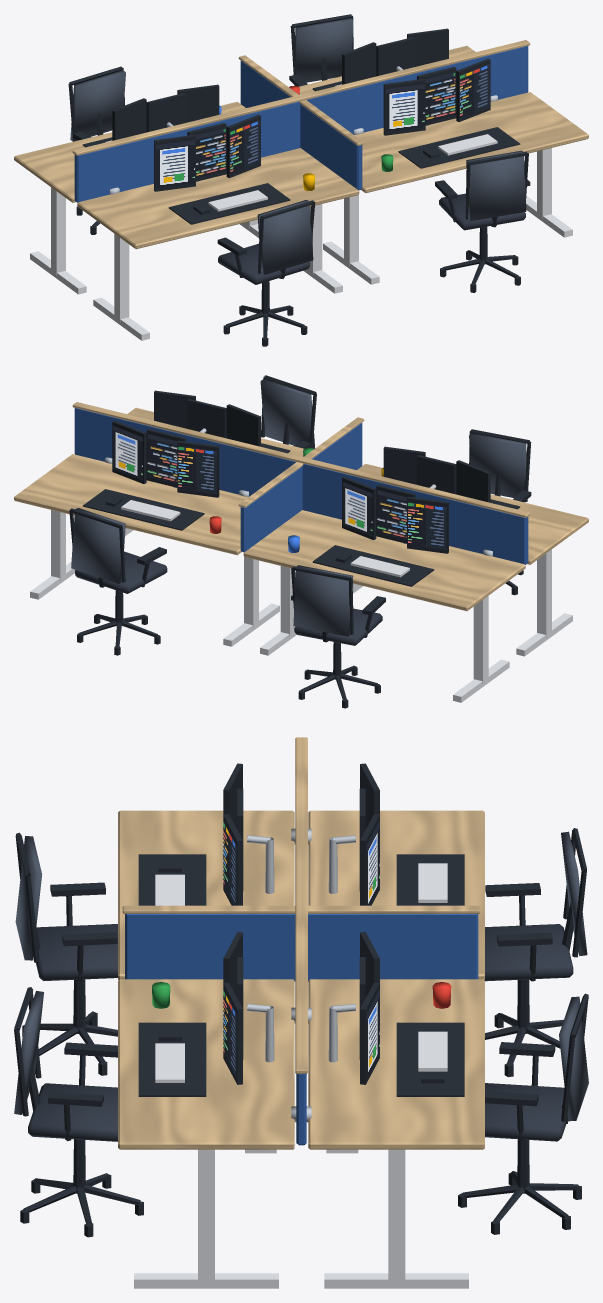
Rendered from prop_desk_pod.glb.
3 renders of one model, top to bottom at view 1: azimuth 30°, elevation 25°; view 2: azimuth 150°, elevation 25°; view 3: azimuth 270°, elevation 25°, orthographic. The views are drawn at different scales.
Parts seen in each view (by area): view 1: DeskPod_BirchTops, DeskPod_DarkMetal, DeskPod_AcousticFelt, DeskPod_ChairMesh, DeskPod_WhiteFrames, DeskPod_SWEScreens, DeskPod_ChairSeats; view 2: DeskPod_BirchTops, DeskPod_DarkMetal, DeskPod_AcousticFelt, DeskPod_ChairMesh, DeskPod_WhiteFrames, DeskPod_SWEScreens, DeskPod_ChairSeats; view 3: DeskPod_BirchTops, DeskPod_DarkMetal, DeskPod_AcousticFelt, DeskPod_ChairSeats, DeskPod_WhiteFrames, DeskPod_ChairMesh, DeskPod_SWEScreens, DeskPod_Aluminum.
Boxes of the visible parts, box(x1,y1,x2,y2) form: DeskPod_BirchTops: box(14, 40, 588, 249); DeskPod_DarkMetal: box(68, 14, 530, 346); DeskPod_AcousticFelt: box(74, 46, 528, 202); DeskPod_ChairMesh: box(70, 18, 526, 274); DeskPod_WhiteFrames: box(30, 84, 572, 340); DeskPod_SWEScreens: box(156, 64, 489, 188); DeskPod_ChairSeats: box(218, 193, 525, 284); DeskPod_BirchTops: box(14, 402, 588, 611); DeskPod_DarkMetal: box(69, 375, 531, 708); DeskPod_AcousticFelt: box(74, 408, 528, 564); DeskPod_ChairMesh: box(71, 379, 526, 636); DeskPod_WhiteFrames: box(30, 500, 572, 702); DeskPod_SWEScreens: box(113, 426, 446, 550); DeskPod_ChairSeats: box(75, 551, 382, 645); DeskPod_BirchTops: box(118, 737, 484, 1149); DeskPod_DarkMetal: box(14, 763, 588, 1237); DeskPod_AcousticFelt: box(125, 914, 478, 1145); DeskPod_ChairSeats: box(28, 924, 573, 1141); DeskPod_WhiteFrames: box(134, 863, 468, 1288); DeskPod_ChairMesh: box(14, 831, 588, 1121); DeskPod_SWEScreens: box(223, 821, 379, 1078); DeskPod_Aluminum: box(247, 828, 356, 1122).
Bounding box in the file's own units: 3.48 × 1.19 × 2.54.
12 materials, 2 textured.
